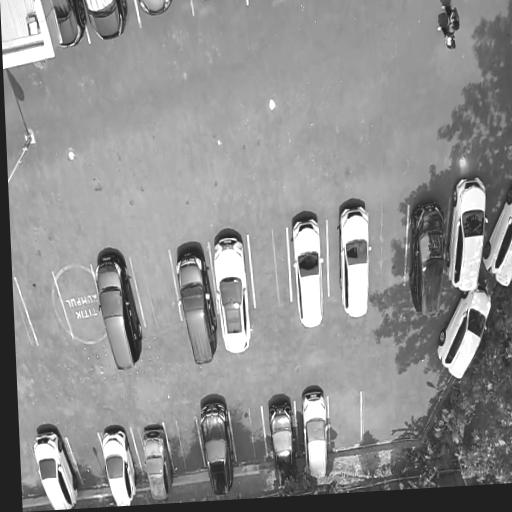Car: (87, 243, 149, 379), (434, 279, 499, 388), (208, 216, 256, 363), (173, 241, 219, 373), (285, 202, 329, 337), (335, 193, 376, 329), (445, 176, 491, 295), (408, 191, 447, 322), (26, 425, 84, 510), (196, 390, 239, 500), (297, 377, 335, 486), (96, 427, 143, 507), (480, 180, 512, 296), (266, 389, 300, 492), (135, 428, 179, 502), (84, 0, 130, 44), (55, 0, 90, 51), (136, 0, 174, 22), (191, 0, 226, 10)
Space Available: (14, 273, 72, 347), (52, 265, 105, 340), (132, 253, 181, 328), (247, 226, 290, 311), (371, 207, 409, 290), (164, 420, 205, 480), (229, 405, 267, 468), (66, 437, 111, 490), (328, 392, 362, 451), (14, 277, 37, 350), (20, 444, 47, 501)
